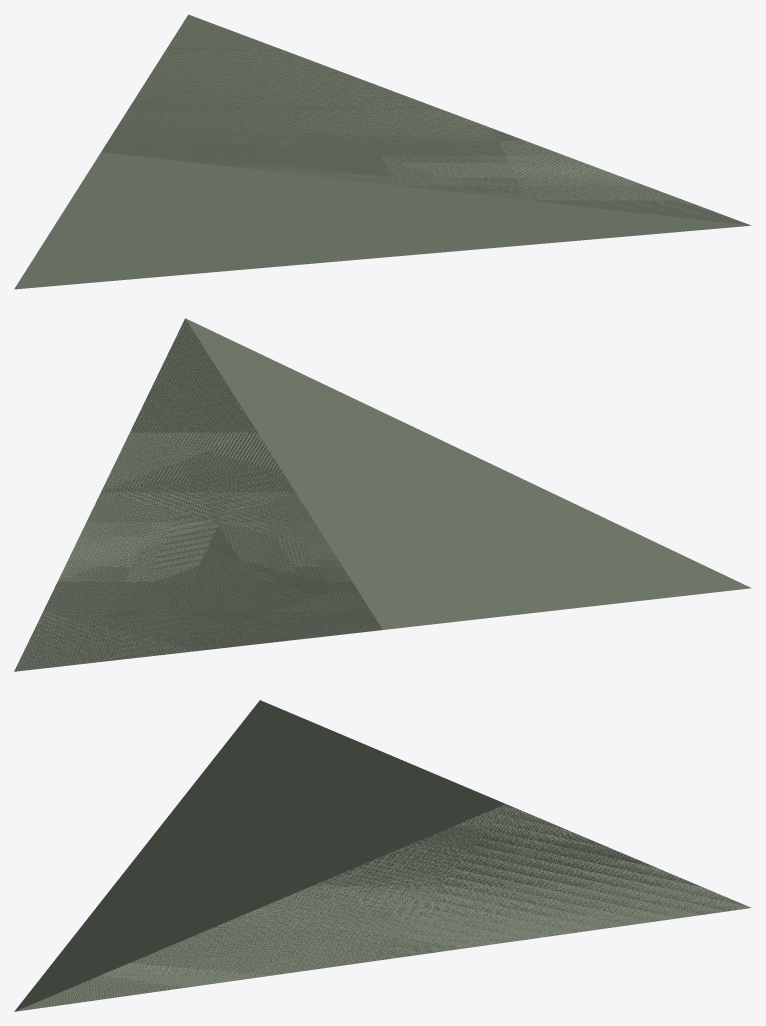
The model's file is lab-cube.gltf.
The picture shows the model from 3 angles, top to bottom: view 1: azimuth 30°, elevation 25°; view 2: azimuth 150°, elevation 25°; view 3: azimuth 270°, elevation 25°; orthographic projection. The views are drawn at different scales.
Size of the model in its own units: 1.06 by 1.75e-38 by 1.06.
